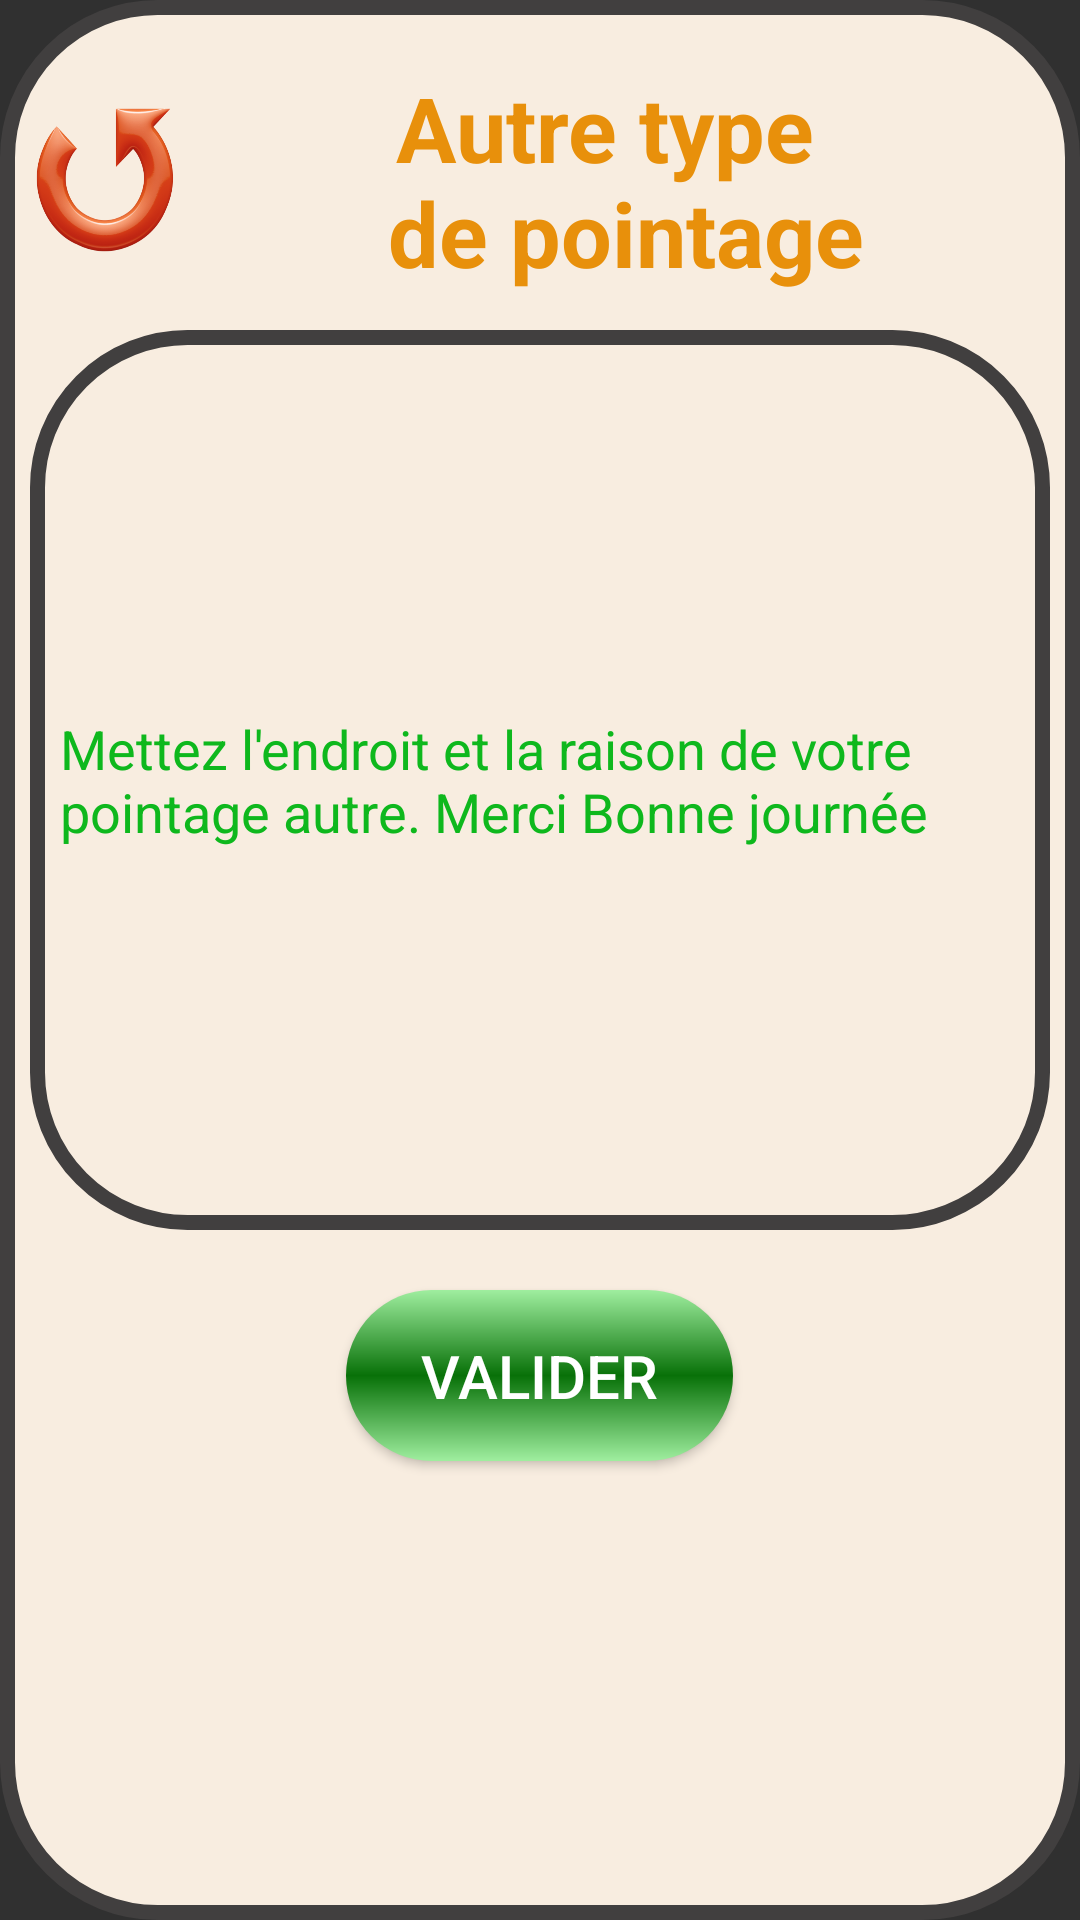

Point at icon controls on the screen. Image size 1080px×1920px, points as (x=x, y=y).
retour: (x=105, y=180)
